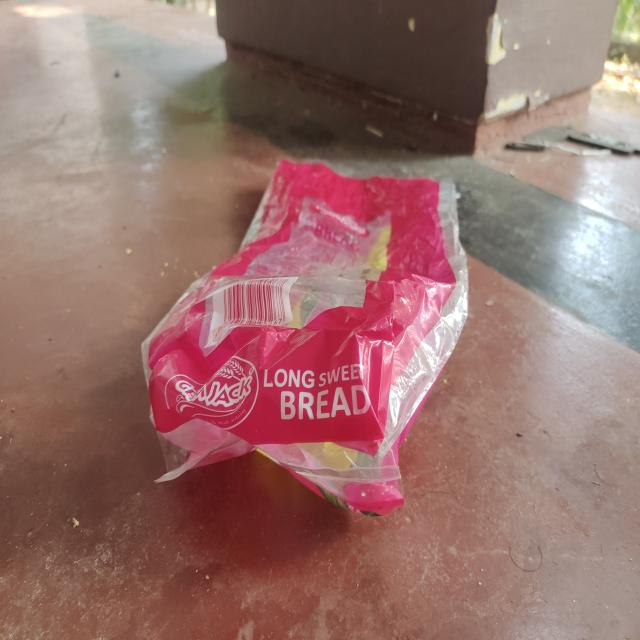plastic: (140, 155, 471, 527)
